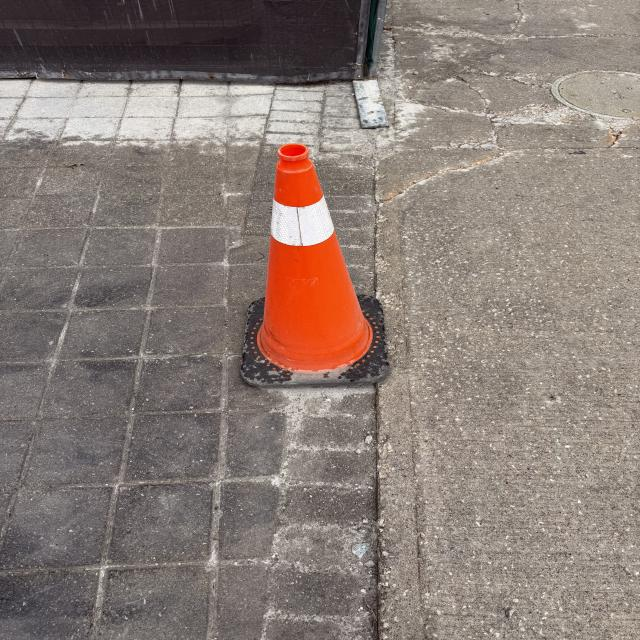Traffic Cone: (239, 144, 390, 387)
